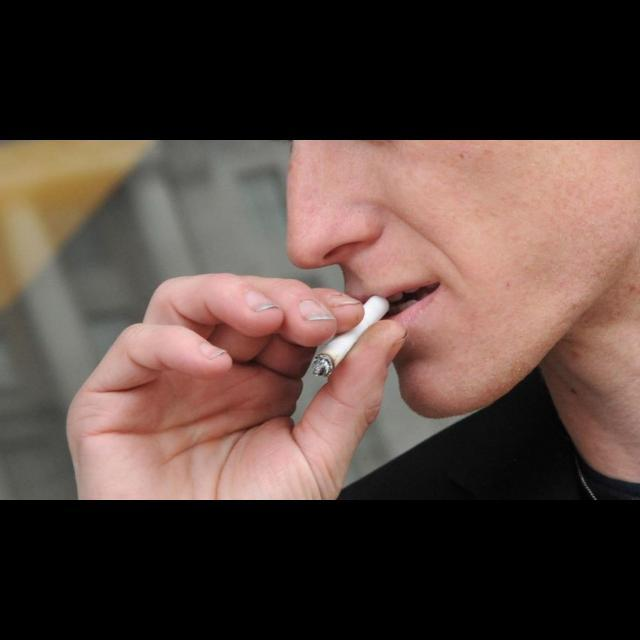rokok: (307, 293, 397, 382)
